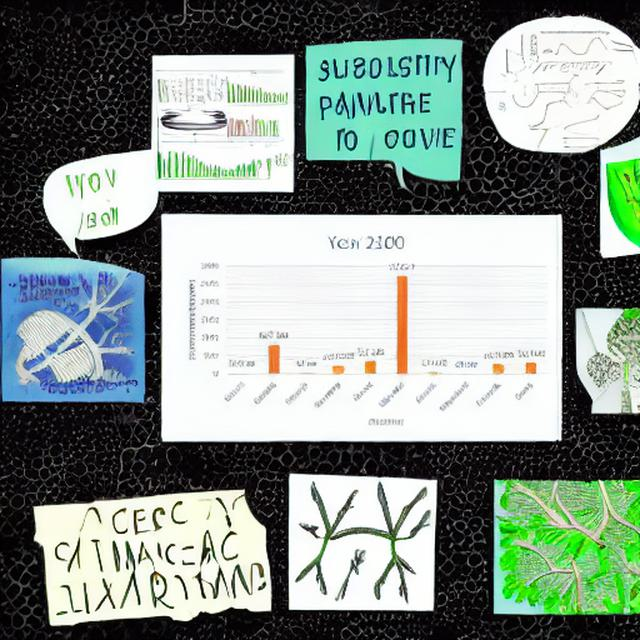Graph: (176, 224, 560, 439), (528, 28, 611, 80), (217, 70, 289, 109)
